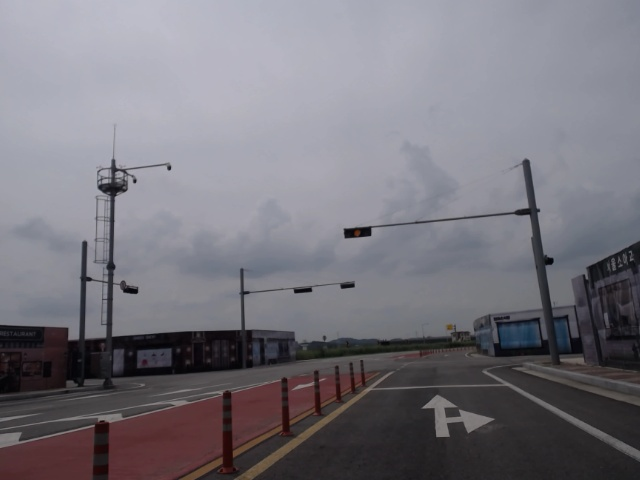orange_3: (344, 226, 371, 239)
